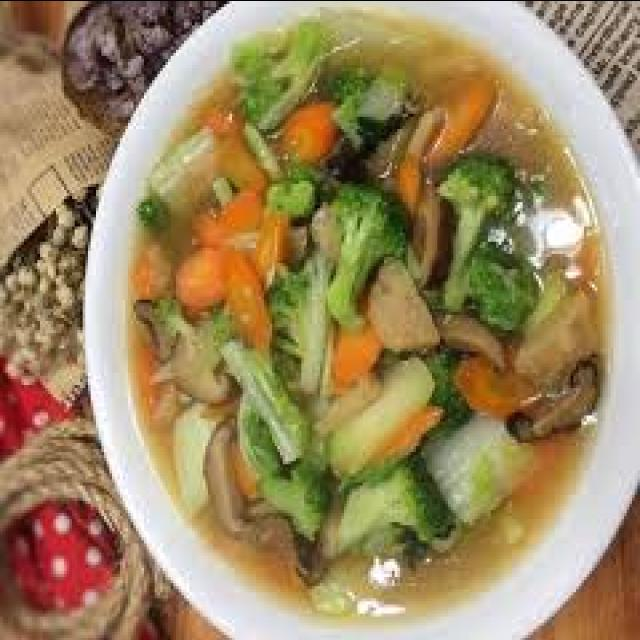capcay: (125, 9, 616, 619)
